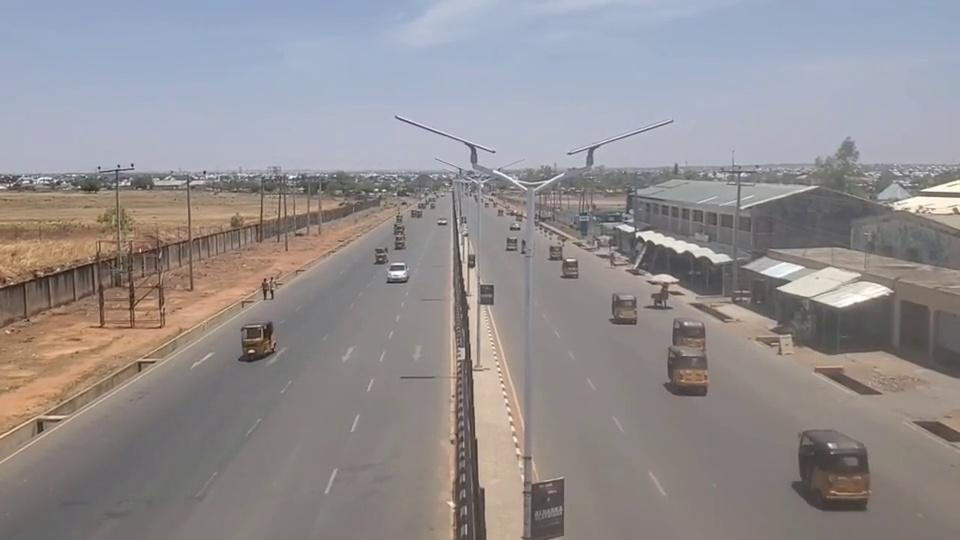keke: (797, 427, 871, 508)
